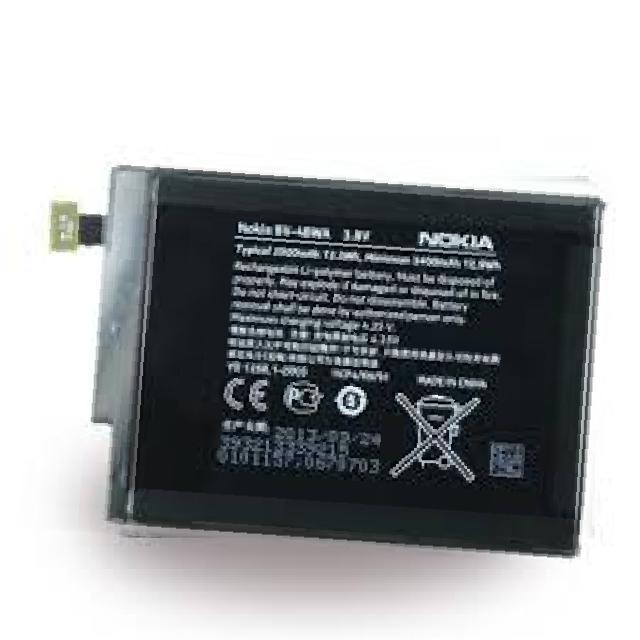Battery: (36, 132, 634, 606)
